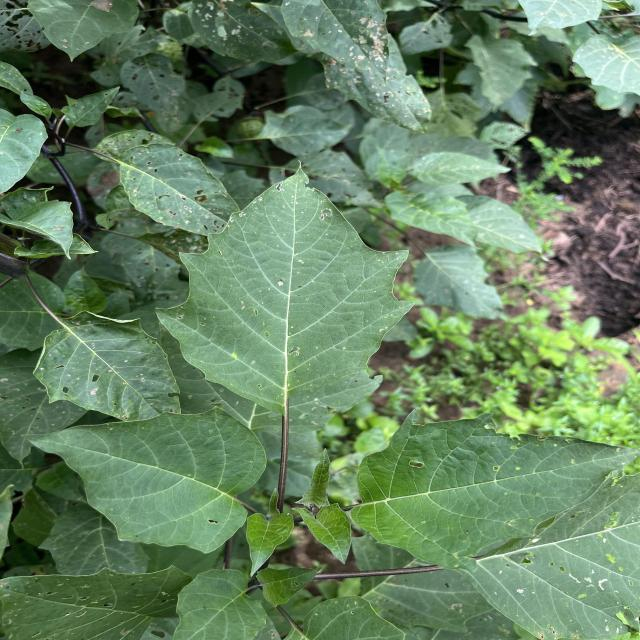Datura metal linn: (152, 158, 420, 423), (348, 405, 640, 574), (18, 403, 268, 556)
